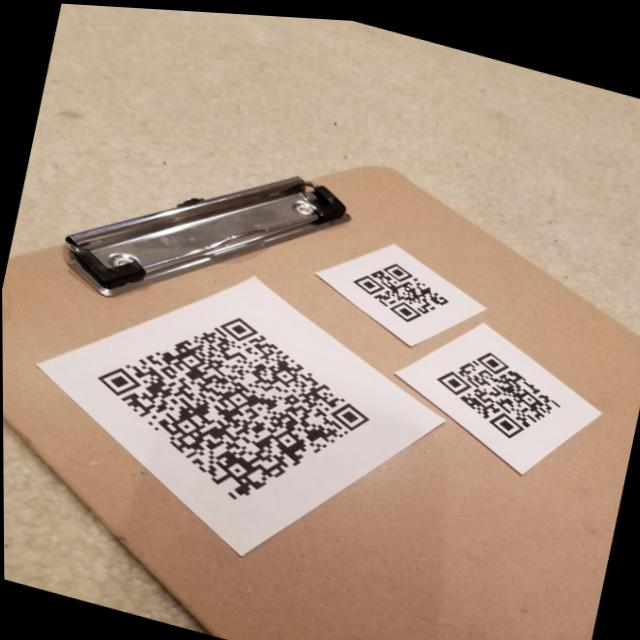QR_CODE: (52, 264, 413, 544), (417, 320, 582, 454), (337, 232, 469, 335)
